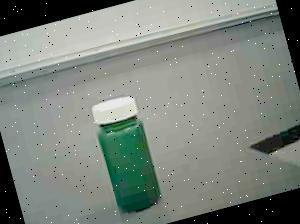Bottle C: (76, 82, 185, 224)
